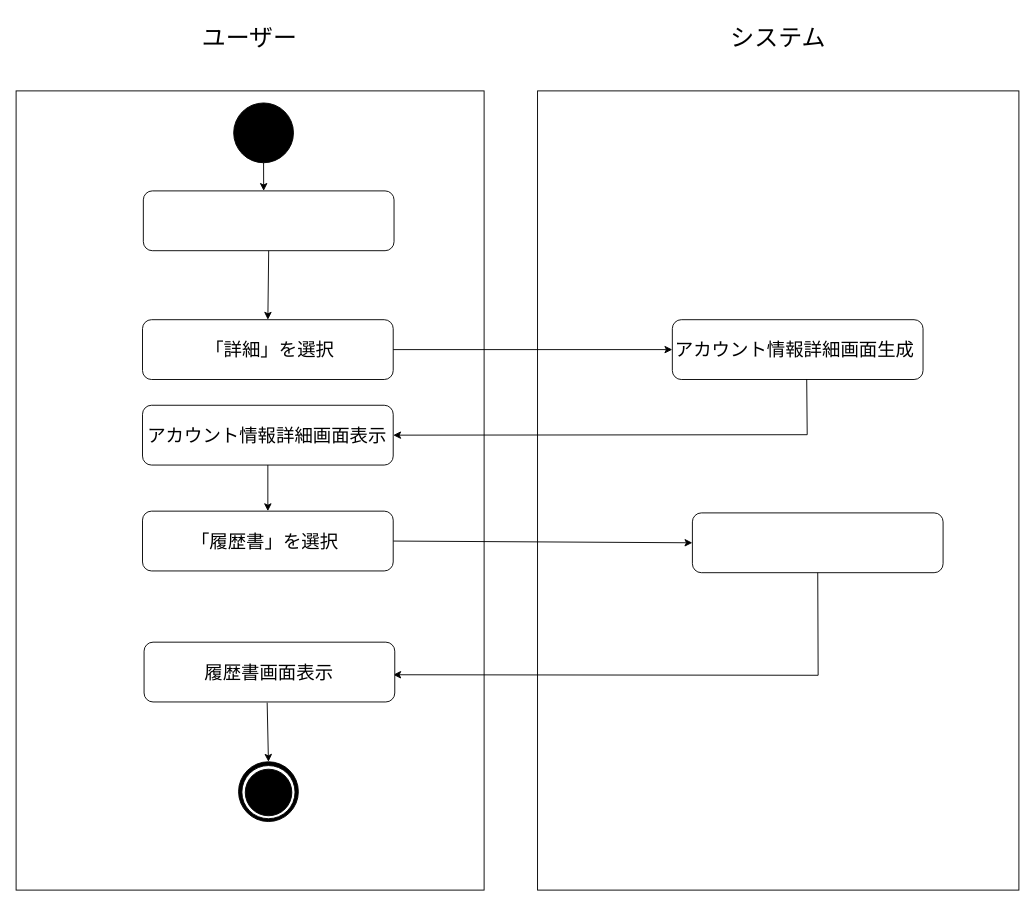
The diagram is 1035 pixels wide and 906 high, and some of its shapes have lost their labels. The centre of each missing label's shape, as x and y in pixels:
"履歴書画面生成" belongs at point (817, 542).
"配達員アカウント一覧画面表示" belongs at point (268, 220).
